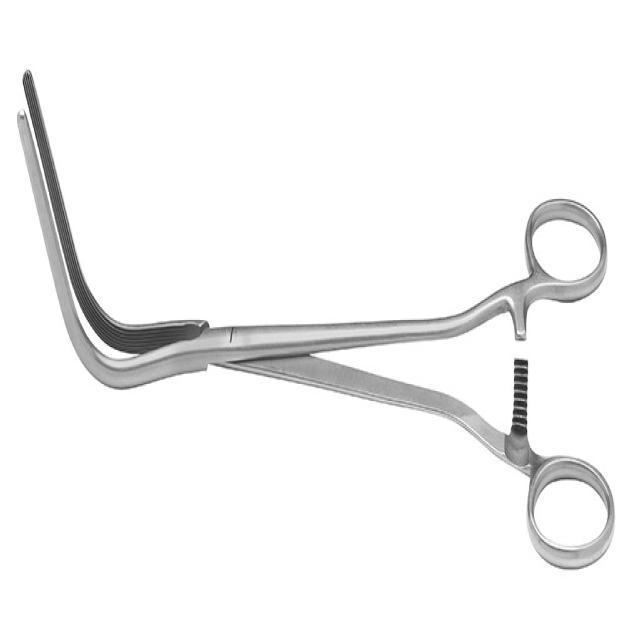Right Angle Colon Clamp: (14, 48, 618, 578)
